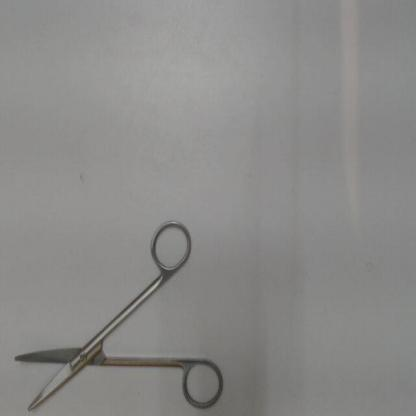Curved Mayo Scissors: (8, 211, 230, 415)
